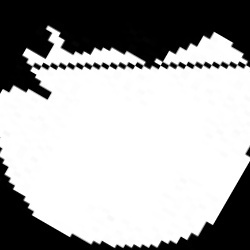spot: (1, 24, 249, 248)
